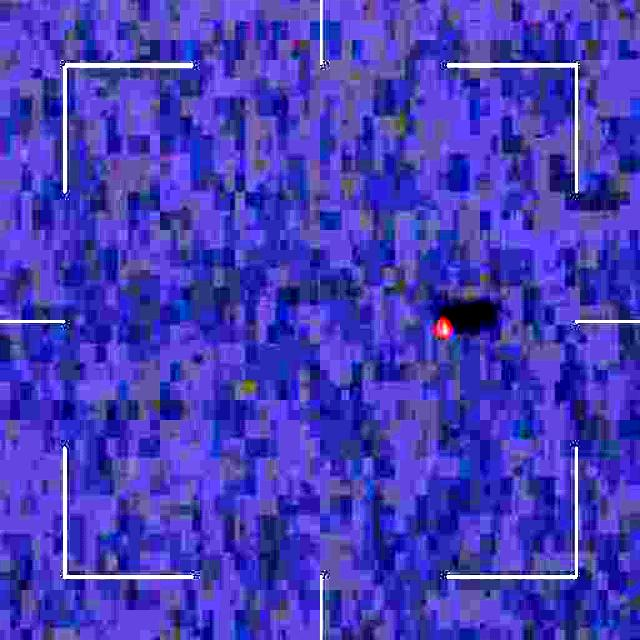bird: (432, 309, 450, 339)
